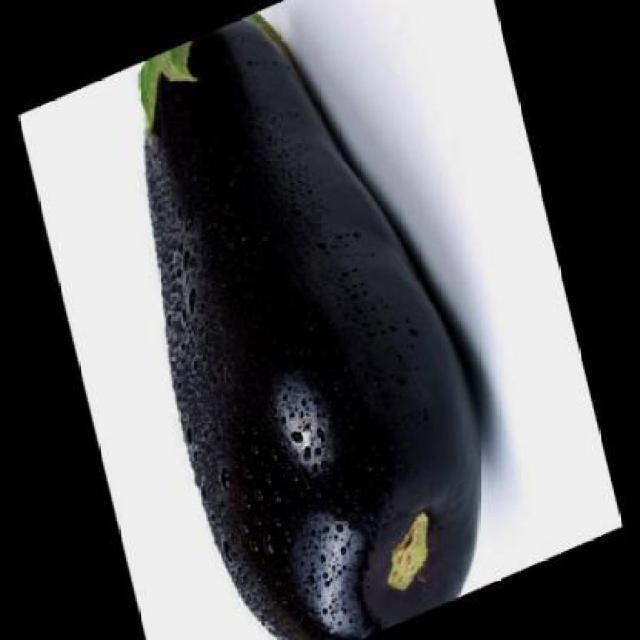eggplant: (124, 3, 494, 640)
